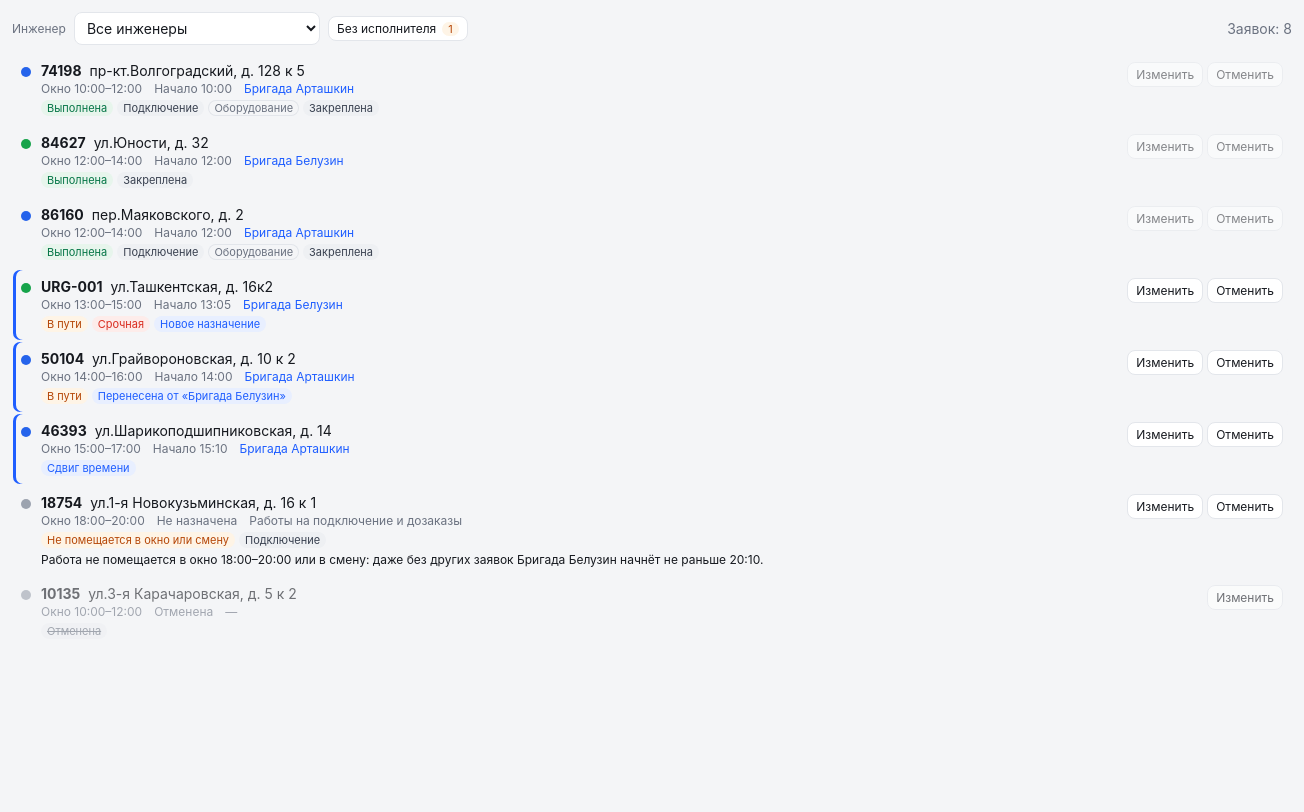
CancelToast › applies the cancel on ✓ once, with the time the clock showed at the click
Click the button "Отменить" in the row of "50104". click: coordinates (1245, 362)
box: [1207, 350, 1283, 375]
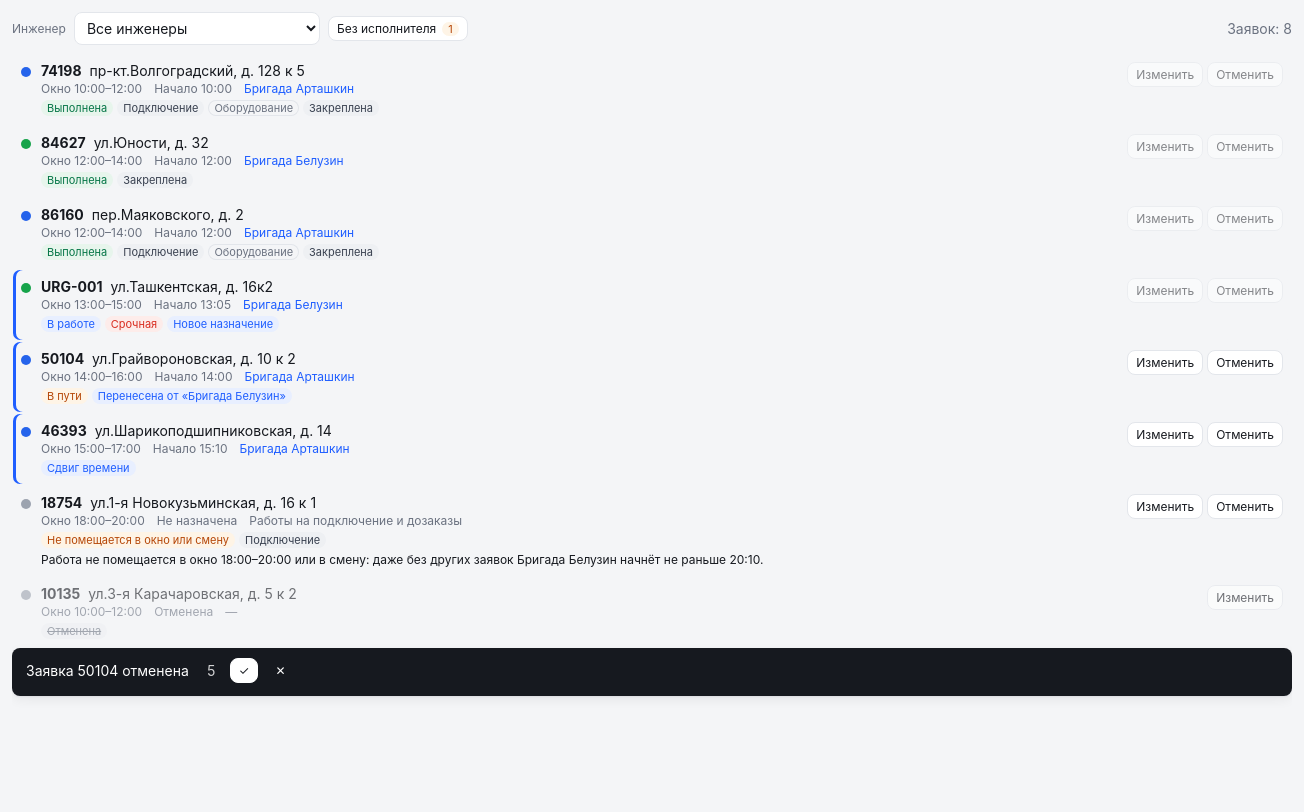
Click the button named "Подтвердить отмену заявки". click: coordinates (244, 670)
box: [230, 658, 258, 683]
Wait 5000 ms
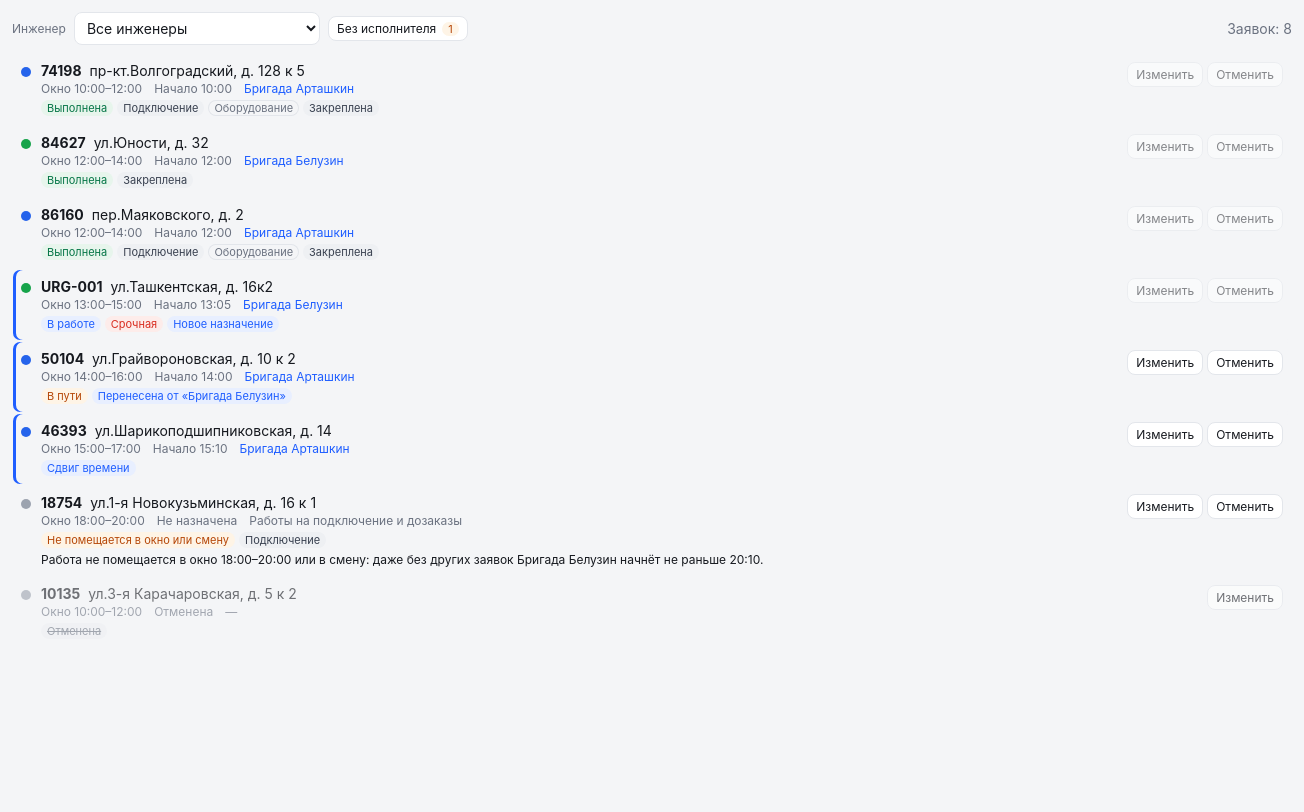
Check: the text "Заявка 50104 отменена" is gone
